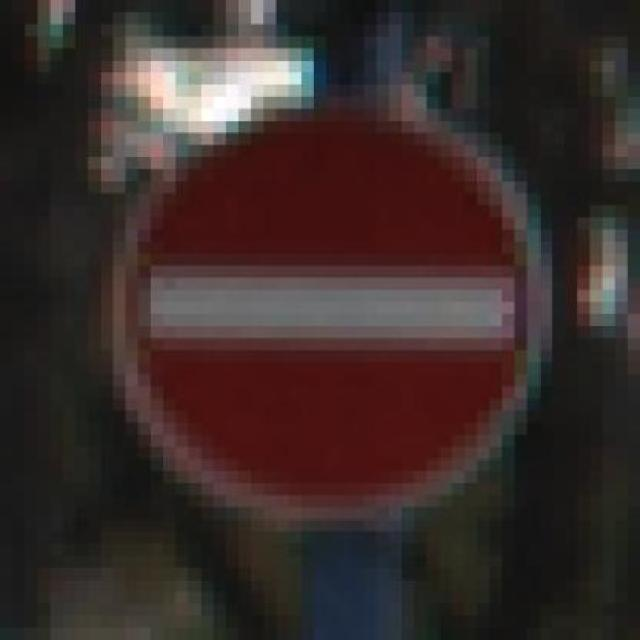No Entry: (88, 72, 552, 543)
